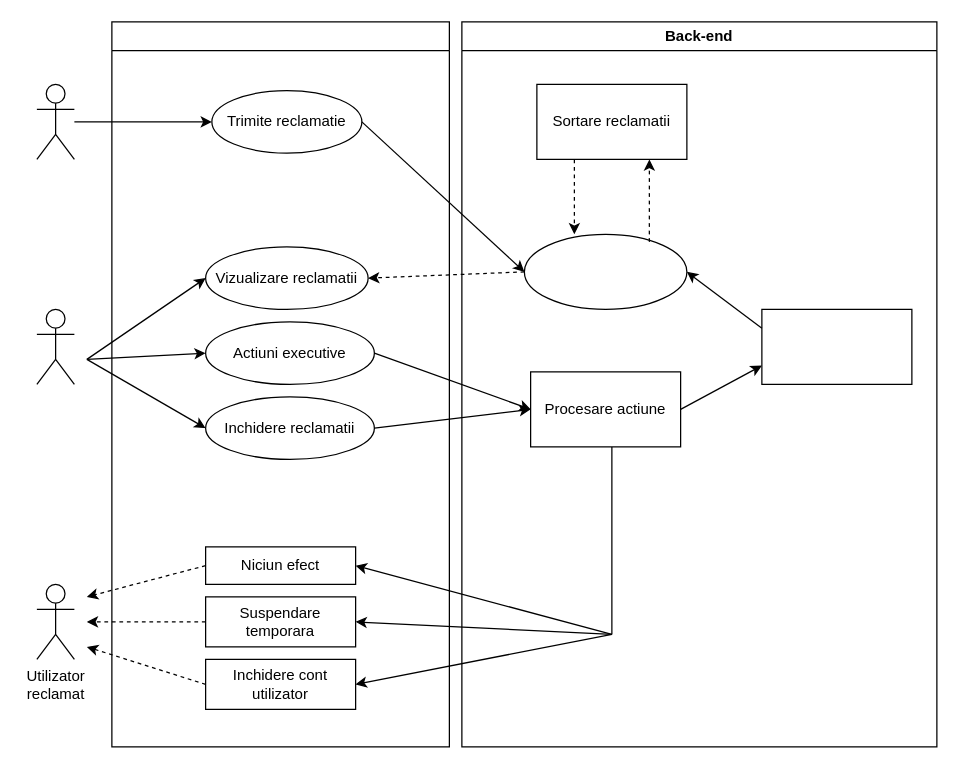
Image size: 959x769. Some labels were removed from this diagram. Here are the shapes that lost their labels. From the top down, the box of each, then its label:
(36, 83, 74, 159): Utilizator reclamant
(523, 233, 687, 309): Database reclamatii
(36, 308, 74, 384): Moderator
(761, 308, 912, 384): Actualizare database
(111, 21, 449, 747): Front-end
